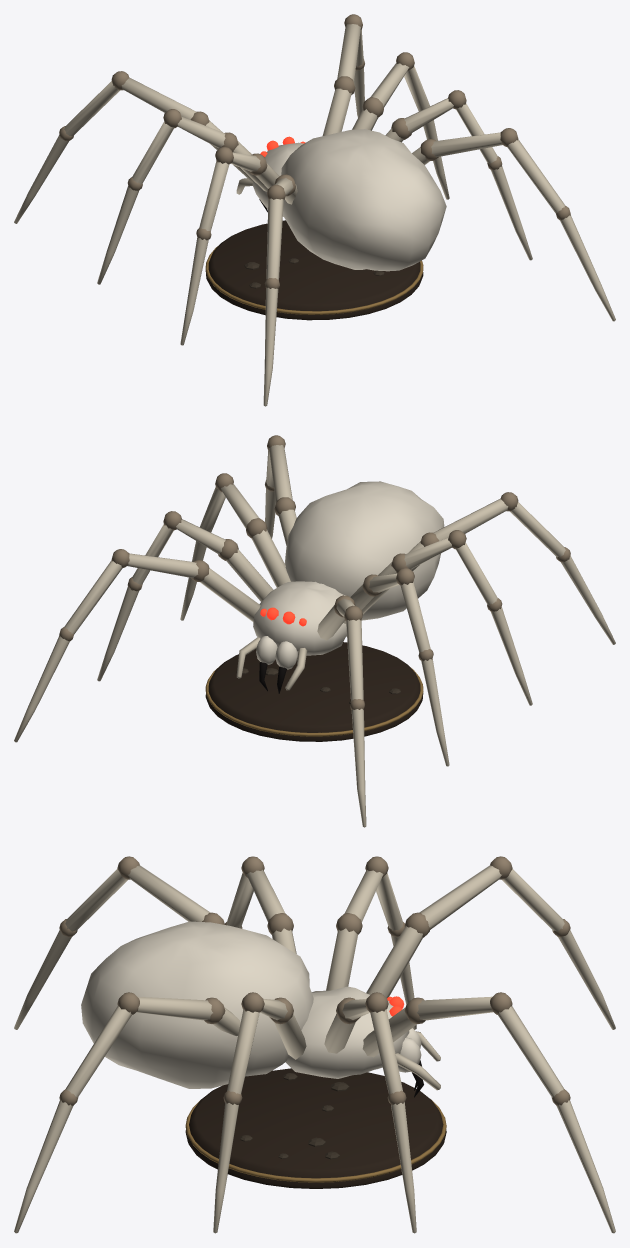
File: ryytaa.glb
3 views of the same model, one above another, from view 1: azimuth 30°, elevation 25°; view 2: azimuth 150°, elevation 25°; view 3: azimuth 270°, elevation 25° (orthographic). The views are drawn at different scales.
Parts seen in each view (by area): view 1: Torso, Base, Leg3R, Leg0L, Leg1L, Leg2L, Leg3L, Leg2R, Leg0R, Leg1R; view 2: Torso, Base, Leg0R, Leg1R, Leg0L, Leg3L, Leg2R, Leg2L, Leg1L, Leg3R; view 3: Torso, Base, Leg0L, Leg0R, Leg3R, Leg2R, Leg1R, Leg3L, Leg1L, Leg2L.
Part boxes in pixels (box(x1,y1,x2,y2)): Torso: box(236, 129, 446, 271); Base: box(205, 220, 423, 320); Leg3R: box(412, 128, 615, 321); Leg0L: box(14, 71, 253, 223); Leg1L: box(97, 109, 267, 284); Leg2L: box(180, 147, 279, 345); Leg3L: box(263, 174, 297, 406); Leg2R: box(385, 90, 532, 260); Leg0R: box(322, 14, 364, 135); Leg1R: box(352, 52, 449, 199); Torso: box(236, 481, 444, 693); Base: box(205, 642, 423, 741); Leg0R: box(14, 549, 260, 742); Leg1R: box(97, 511, 273, 681); Leg0L: box(317, 595, 366, 827); Leg3L: box(408, 492, 615, 644); Leg2R: box(180, 473, 290, 620); Leg2L: box(362, 530, 532, 705); Leg1L: box(343, 568, 449, 766); Leg3R: box(265, 435, 296, 545); Torso: box(81, 921, 440, 1097); Base: box(185, 1068, 446, 1188); Leg0L: box(366, 856, 615, 1029); Leg0R: box(362, 992, 615, 1233); Leg3R: box(14, 992, 240, 1233); Leg2R: box(213, 992, 306, 1233); Leg1R: box(324, 992, 416, 1233); Leg3L: box(14, 856, 224, 1029); Leg1L: box(326, 856, 416, 1029); Leg2L: box(225, 856, 296, 953).
Bounding box in the file's own units: 2.18 × 1.03 × 2.7.
